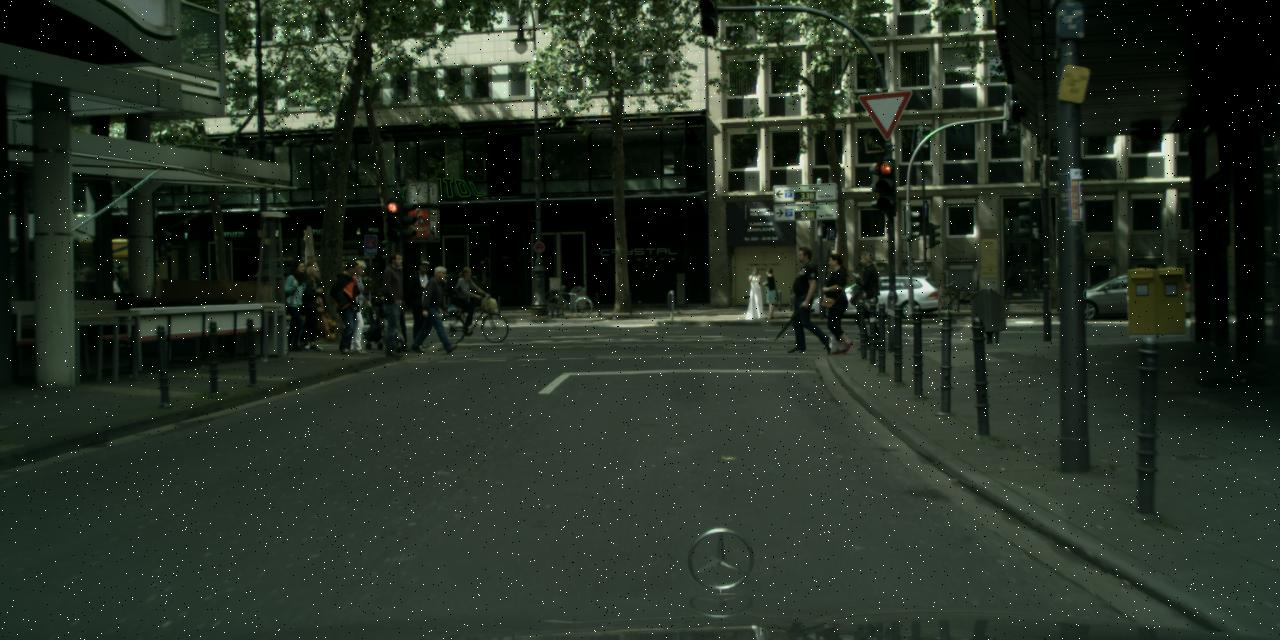ped: (789, 245, 832, 349), (374, 252, 416, 354), (849, 251, 889, 349), (819, 252, 859, 350), (338, 258, 376, 350), (330, 259, 368, 351), (277, 260, 314, 350), (405, 260, 439, 346), (420, 266, 454, 352), (294, 264, 328, 348), (454, 266, 479, 330), (746, 267, 766, 317), (759, 268, 779, 316)
